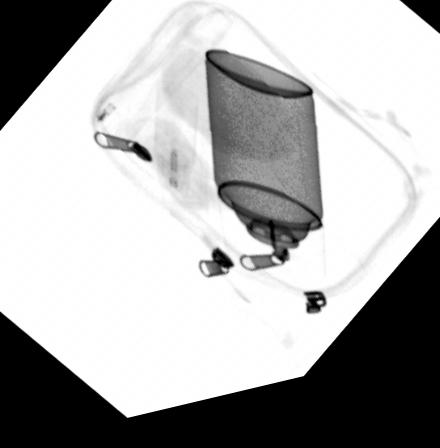Sprayer: (201, 57, 329, 318)
